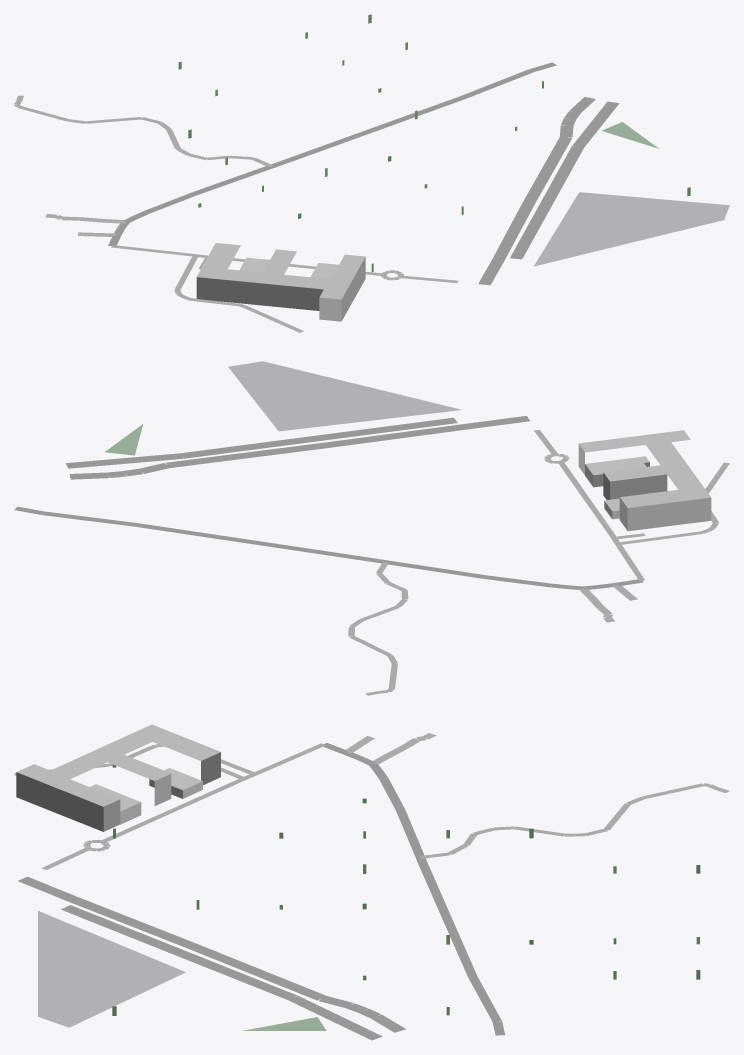
The picture shows the model from 3 angles, top to bottom: view 1: azimuth 30°, elevation 25°; view 2: azimuth 150°, elevation 25°; view 3: azimuth 270°, elevation 25°; orthographic projection. The views are drawn at different scales.
Size of the model in its own units: 521 by 21.19 by 515.
